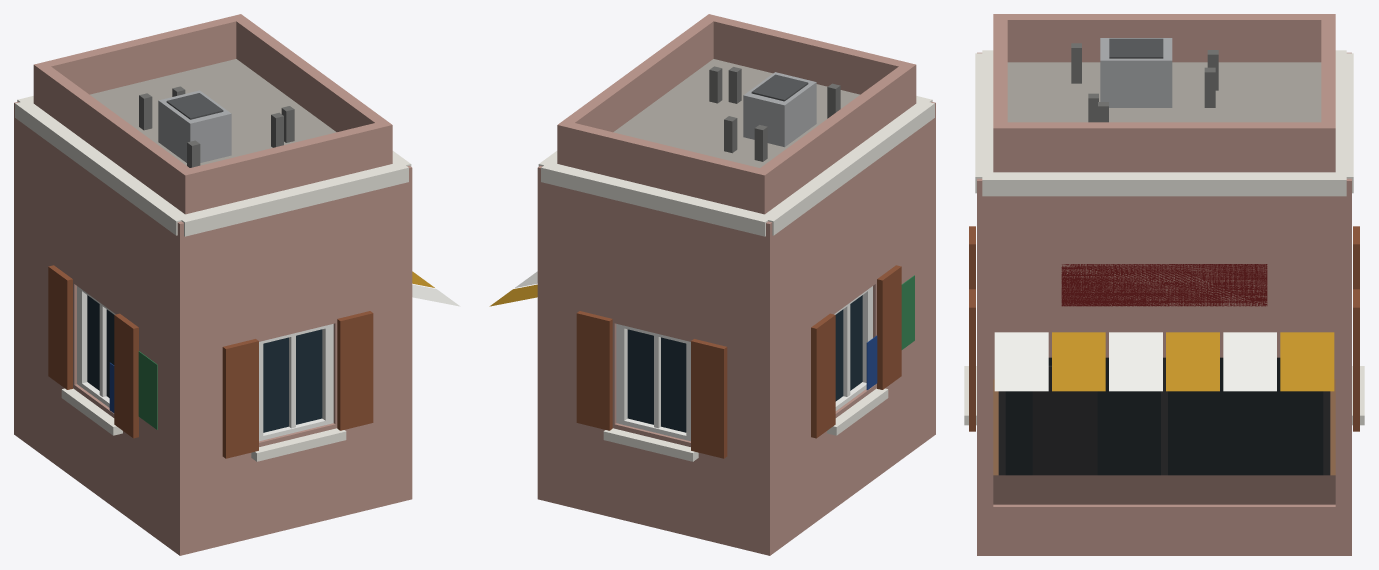
3 renders of one model, left to right at view 1: azimuth 30°, elevation 25°; view 2: azimuth 150°, elevation 25°; view 3: azimuth 270°, elevation 25°, orthographic. The views are drawn at different scales.
Visible parts, largest first — view 1: b12013_opaque, b12013_glass; view 2: b12013_opaque, b12013_glass; view 3: b12013_opaque, b12013_glass.
Boxes of the visible parts, x1,y1,x2,y2 form: b12013_opaque: (14,14,460,555); b12013_glass: (87,295,322,432); b12013_opaque: (489,14,935,555); b12013_glass: (627,295,862,432); b12013_opaque: (964,14,1364,555); b12013_glass: (1005,357,1323,475).
Size of the model in its own units: 2164 by 2620 by 2224.
